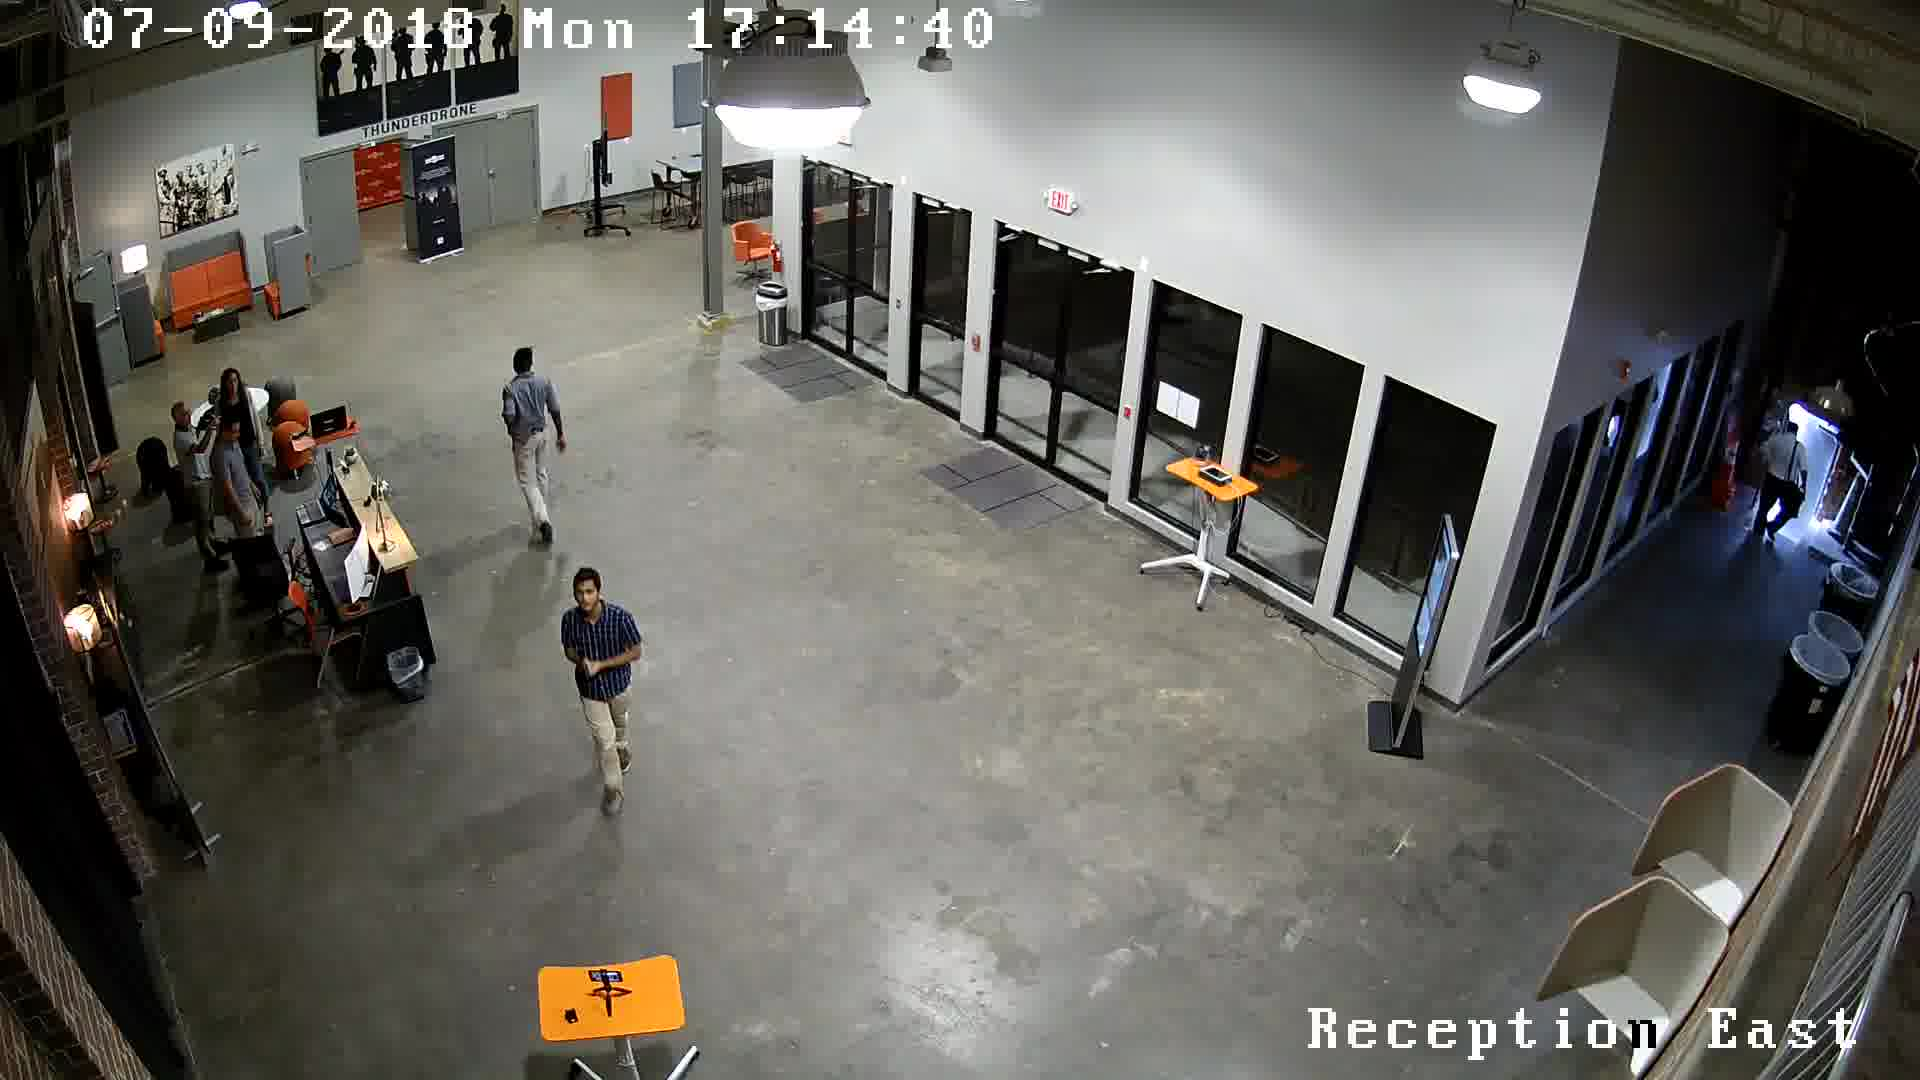pistol: (571, 647, 597, 690)
